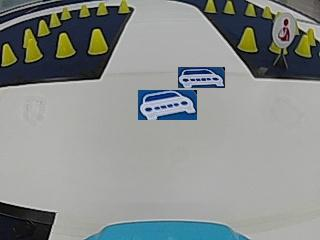cone: (87, 28, 108, 55), (24, 30, 42, 61), (237, 27, 258, 53), (55, 32, 76, 58), (1, 43, 17, 65), (296, 34, 311, 57), (37, 18, 50, 35), (117, 0, 130, 14), (223, 1, 235, 14), (96, 2, 108, 15), (204, 1, 216, 13), (79, 4, 90, 17), (245, 3, 256, 16), (60, 6, 71, 19), (50, 13, 61, 26), (262, 6, 272, 18)
patient: (272, 10, 294, 46)
